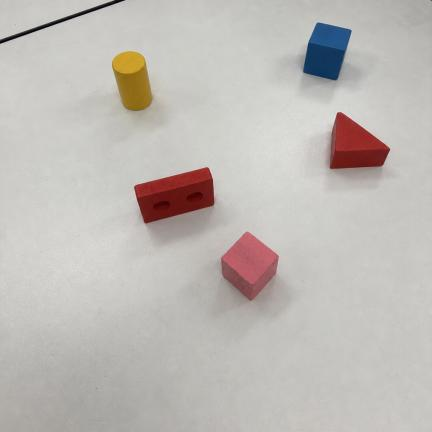BuildingBlocks: (135, 168, 214, 223), (222, 232, 278, 299), (330, 113, 389, 168), (304, 23, 351, 79), (113, 52, 151, 110)
